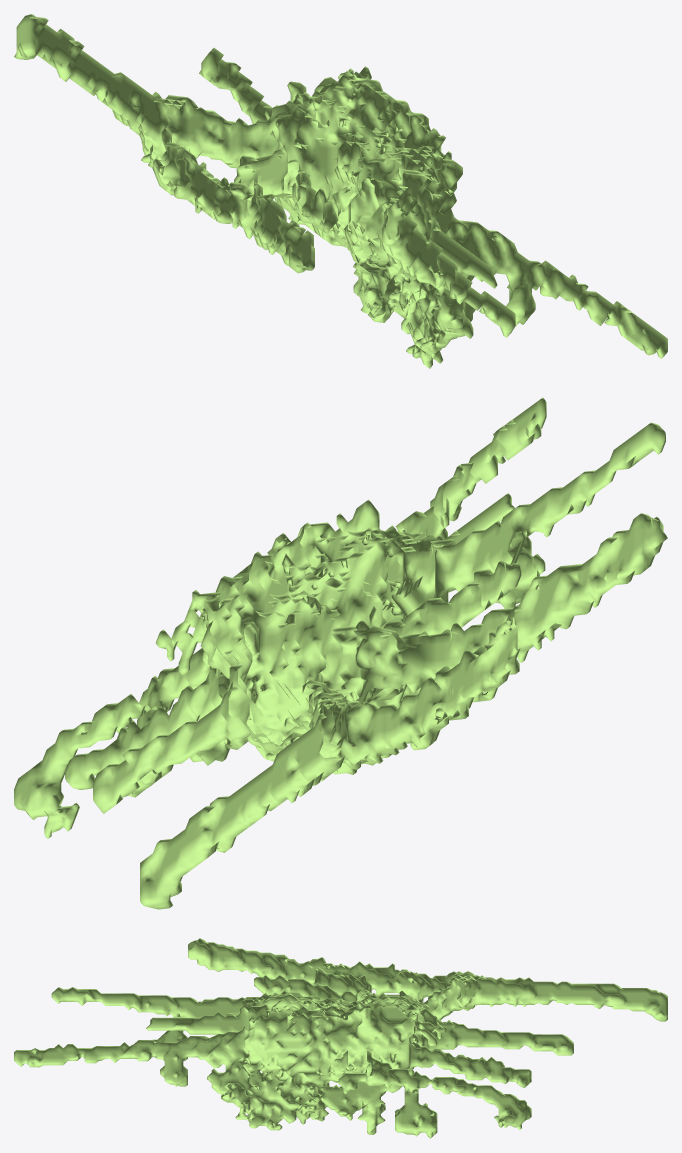
File: osteocyte_52.glb
The picture shows the model from 3 angles, top to bottom: view 1: azimuth 30°, elevation 25°; view 2: azimuth 150°, elevation 25°; view 3: azimuth 270°, elevation 25°; orthographic projection. The views are drawn at different scales.
Visible parts, largest first — view 1: osteocyte_52; view 2: osteocyte_52; view 3: osteocyte_52.
Part boxes in pixels (x1,y1,x2,y2): osteocyte_52: (14, 14, 667, 368); osteocyte_52: (14, 397, 667, 909); osteocyte_52: (14, 938, 667, 1138).
Bounding box in the file's own units: 23.11 × 15.41 × 66.92.
